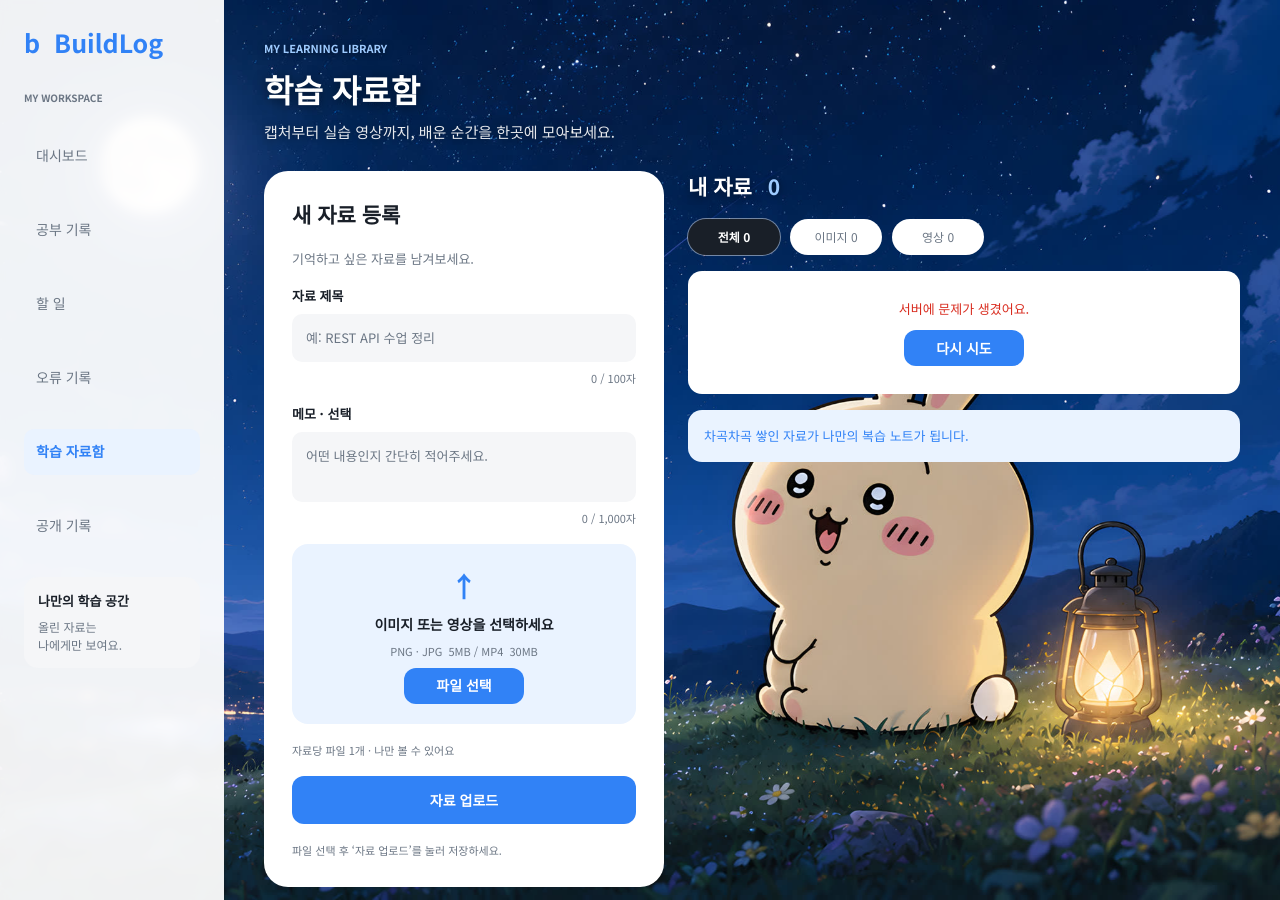
Test case: 학습 자료함 화면 › 목록을 불러오지 못하면 이유를 알리고 빈 목록처럼 보이지 않으며, 다시 시도할 수 있다
The image size is (1280, 900).
Expected: the message shows "서버에 문제가 생겼어요.", [899,298,1029,318]
Click the button "다시 시도".
click(964, 348)  # box [904,330,1024,366]
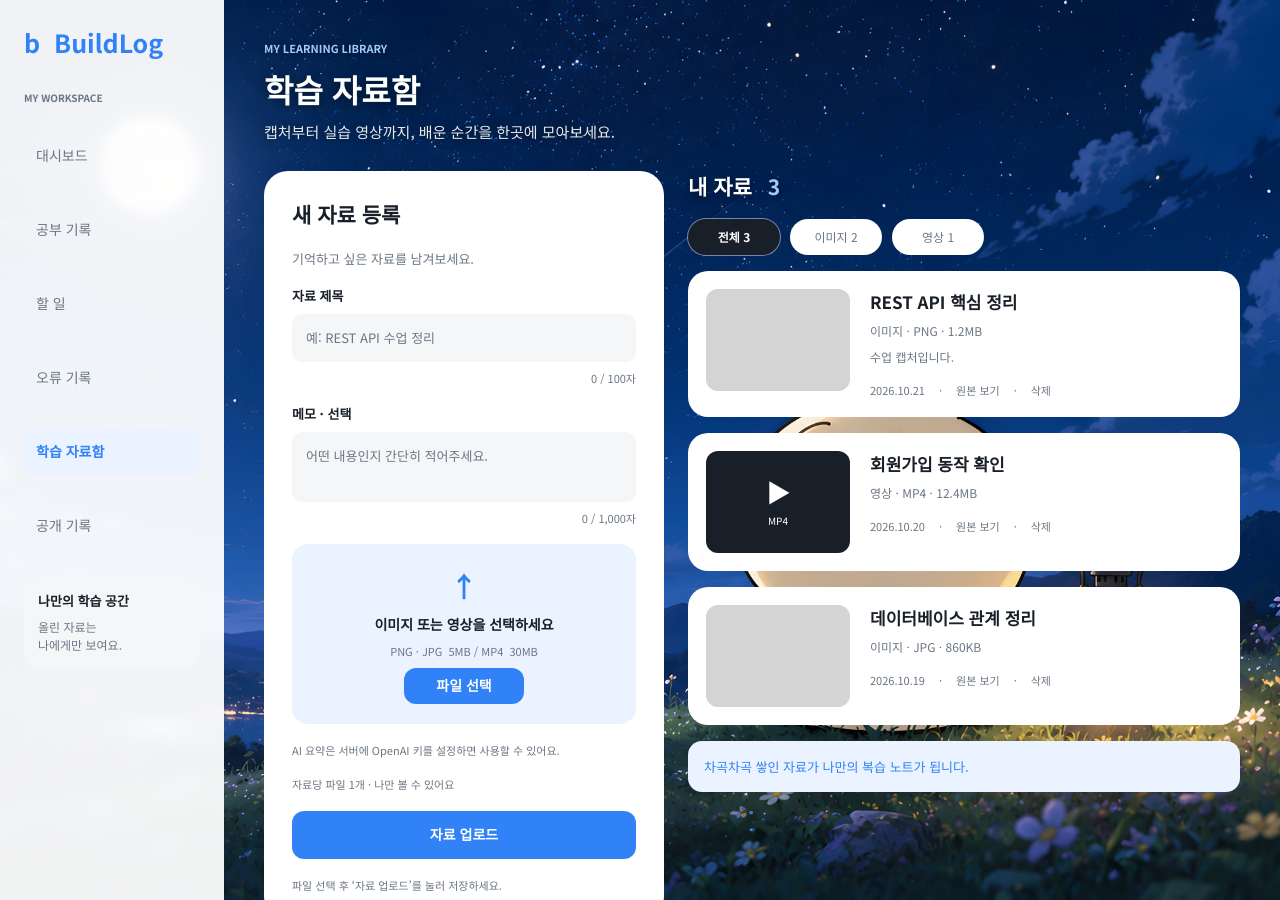
Expected: the heading "REST API 핵심 정리" is shown, [870,288,1018,314]
Expected: the message "서버에 문제가 생겼어요. 다시 시도" is gone
